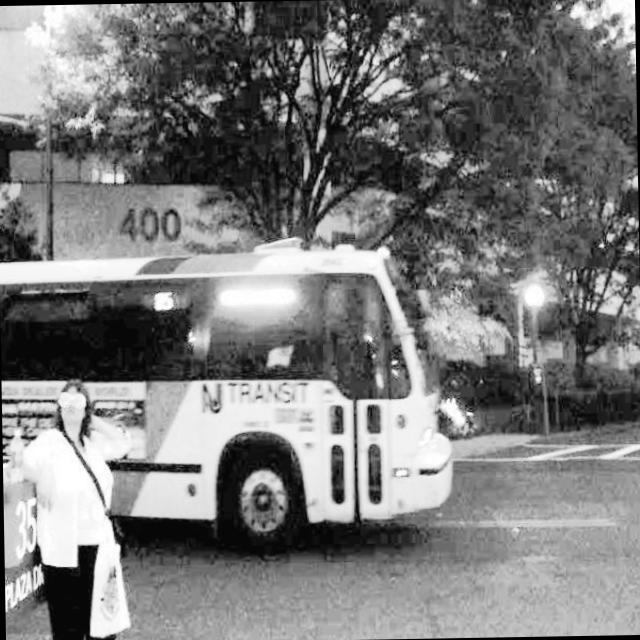Bus: (0, 189, 514, 552)
